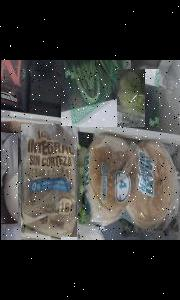Leche: (0, 132, 17, 223)
Lechuga/Endivia: (116, 69, 158, 127)
